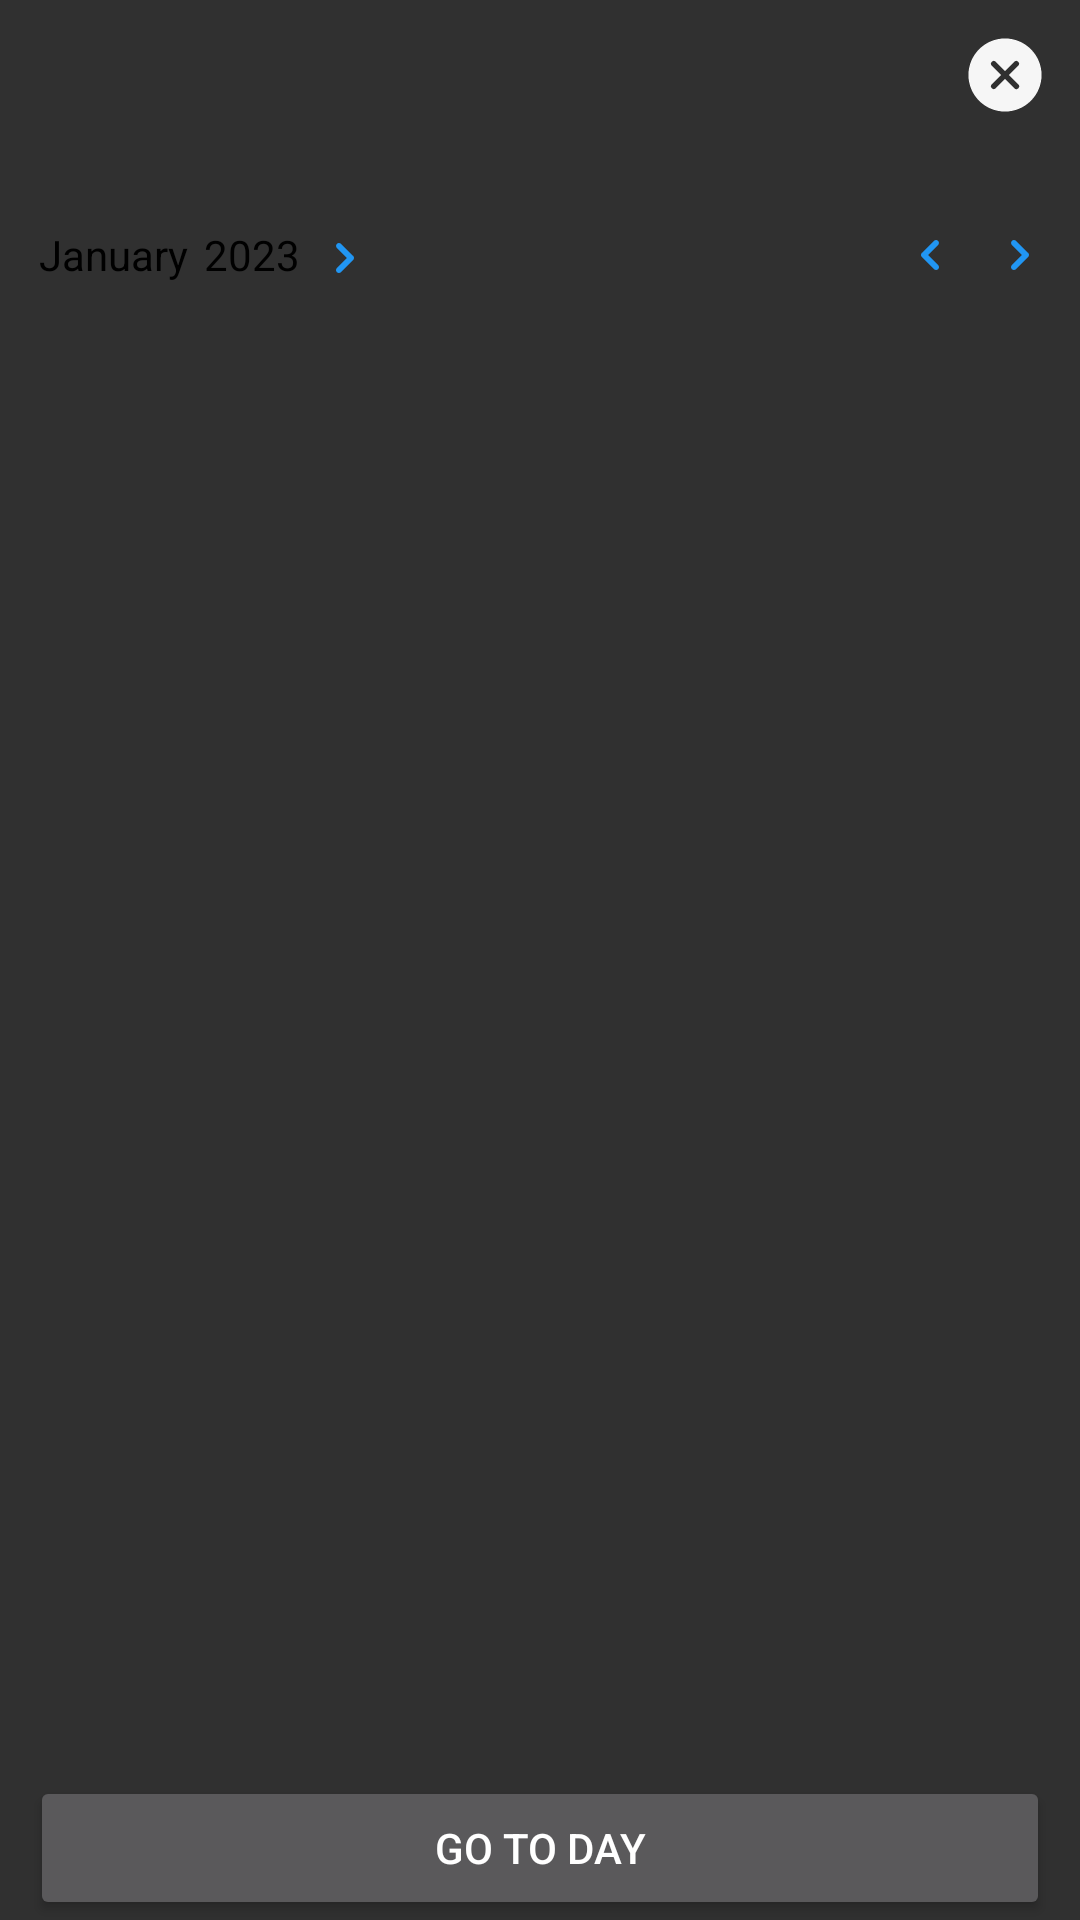

Point at icon controls on the screen. Image size 1080×1920, points as (x,y).
close calendar: (1005,75)
next: (1020,255), (345,258)
previous: (930,255)
